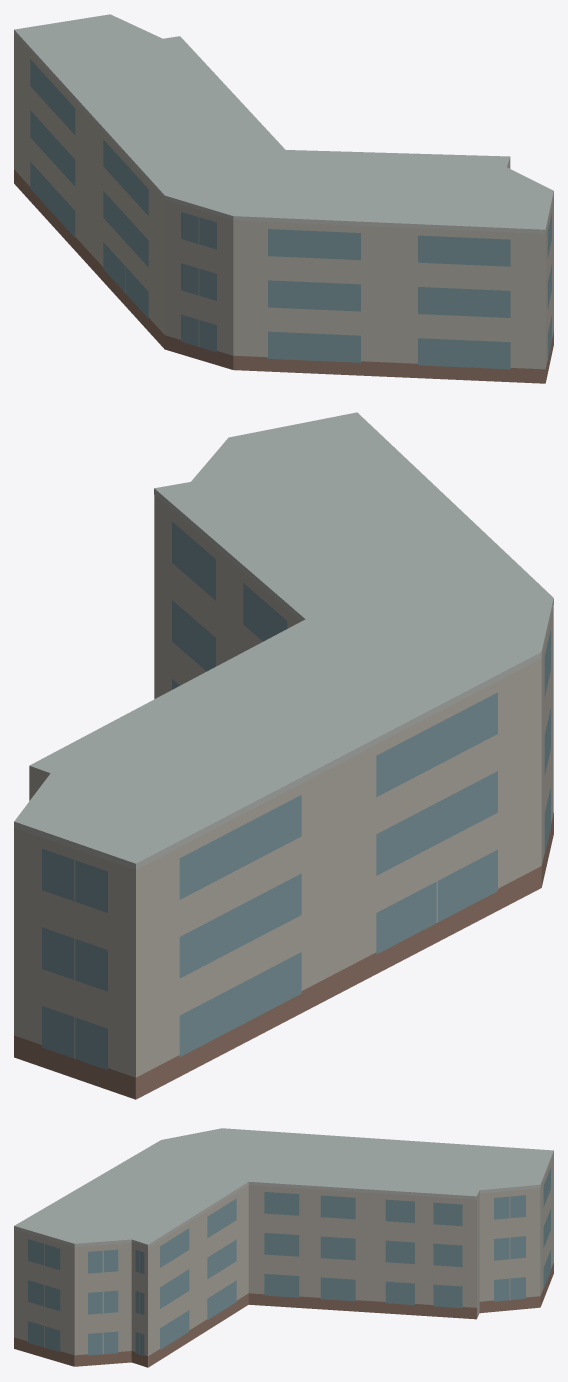
File: survey-upis-32907922.glb
3 views of the same model, one above another, from view 1: azimuth 30°, elevation 25°; view 2: azimuth 150°, elevation 25°; view 3: azimuth 270°, elevation 25° (orthographic). The views are drawn at different scales.
Visible parts, largest first — view 1: survey-upis-32907922.tmp; view 2: survey-upis-32907922.tmp; view 3: survey-upis-32907922.tmp.
Part boxes in pixels (x1,y1,x2,y2): survey-upis-32907922.tmp: (14,14,553,383); survey-upis-32907922.tmp: (14,412,553,1099); survey-upis-32907922.tmp: (14,1128,553,1367).
Bounding box in the file's own units: 18.61 × 9.15 × 36.42.
